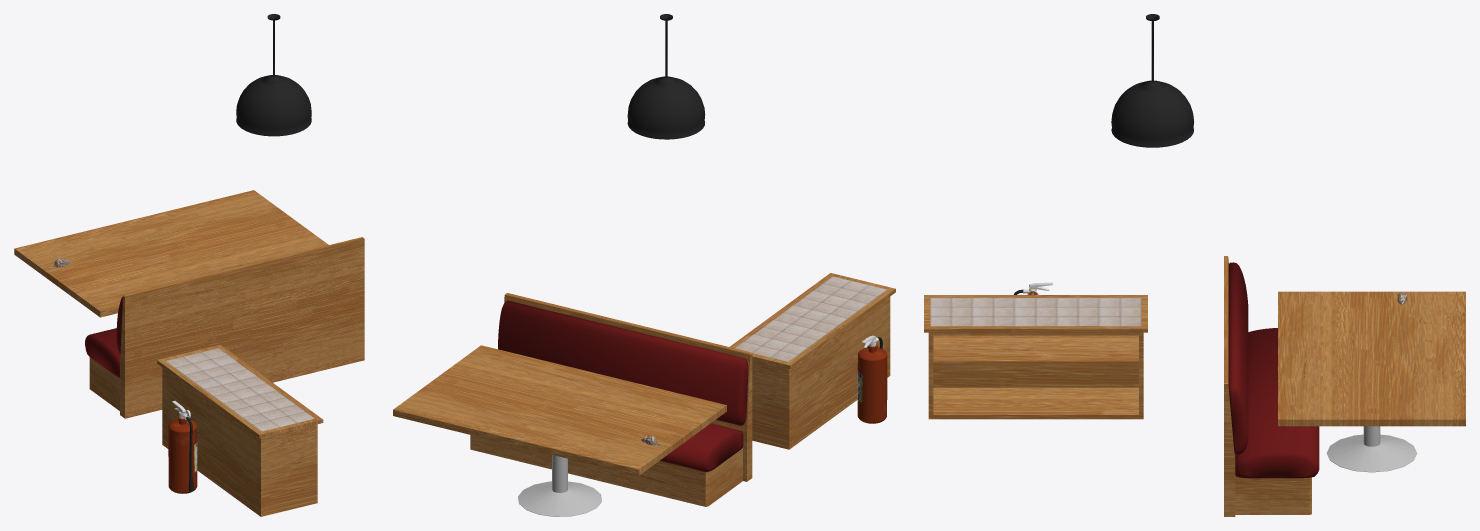
Rendered from booth_counter.gltf.
3 views of the same model, side by side, from view 1: azimuth 30°, elevation 25°; view 2: azimuth 150°, elevation 25°; view 3: azimuth 270°, elevation 25° (orthographic). The views are drawn at different scales.
Visible parts, largest first — view 1: Booth_seat_base.001, Booth_table, Register_desk, Dining_light, Extinguisher, Booth_seat_cushions.001; view 2: Booth_table, Register_desk, Booth_seat_cushions.001, Booth_seat_base.001, Dining_light, Extinguisher; view 3: Booth_table, Register_desk, Booth_seat_cushions.001, Dining_light, Booth_seat_base.001.
Part boxes in pixels (bbox=[...]): Booth_seat_base.001: bbox=[89, 237, 364, 418]; Booth_table: bbox=[14, 190, 328, 317]; Register_desk: bbox=[157, 344, 323, 516]; Dining_light: bbox=[236, 14, 311, 136]; Extinguisher: bbox=[168, 401, 197, 493]; Booth_seat_cushions.001: bbox=[85, 297, 122, 377]; Booth_table: bbox=[393, 345, 726, 516]; Register_desk: bbox=[730, 273, 895, 449]; Booth_seat_cushions.001: bbox=[498, 300, 748, 472]; Booth_seat_base.001: bbox=[470, 293, 752, 506]; Dining_light: bbox=[627, 14, 705, 139]; Extinguisher: bbox=[857, 335, 887, 423]; Booth_table: bbox=[1278, 291, 1465, 472]; Register_desk: bbox=[924, 295, 1147, 419]; Booth_seat_cushions.001: bbox=[1228, 262, 1319, 478]; Dining_light: bbox=[1111, 14, 1193, 147]; Booth_seat_base.001: bbox=[1224, 256, 1311, 516].
Bounding box in the file's own units: 3.31 × 4.46 × 5.04.
11 materials, 6 textured.
